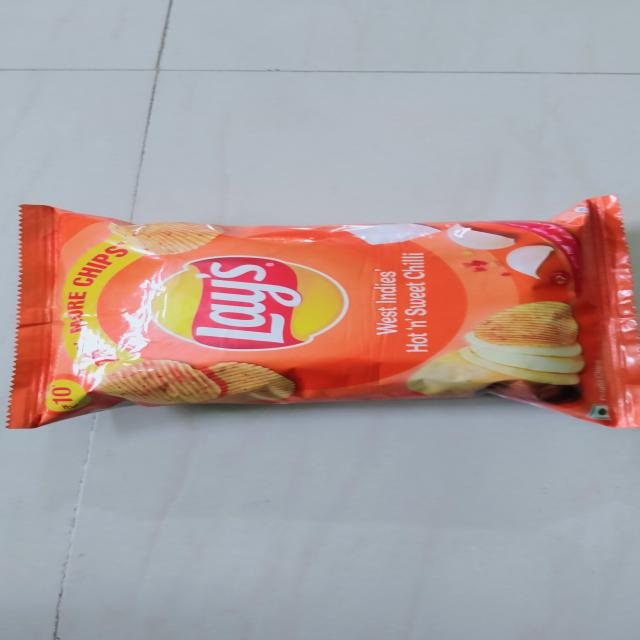lays: (0, 205, 640, 435)
